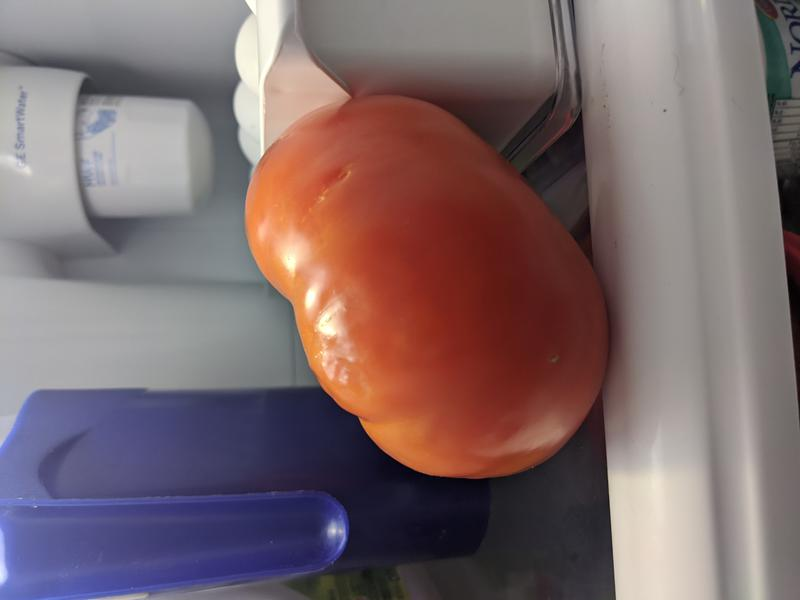tomato: (244, 93, 611, 480)
